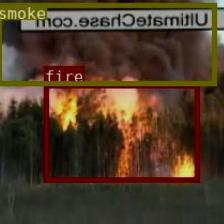fire: (44, 83, 199, 181)
smoke: (0, 2, 215, 85)
